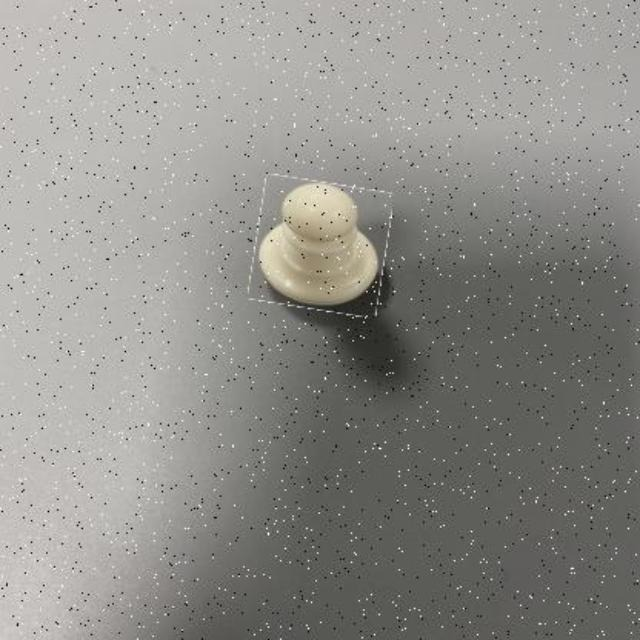white-pawn: (253, 178, 391, 313)
